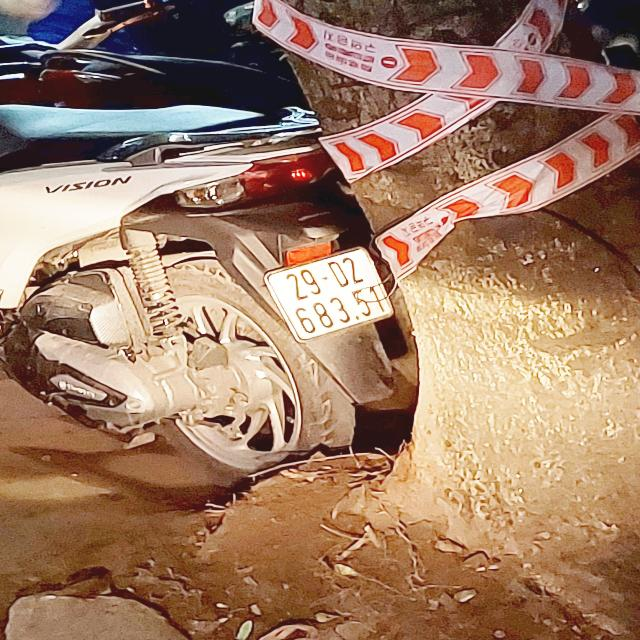license_plate: (269, 249, 398, 344)
